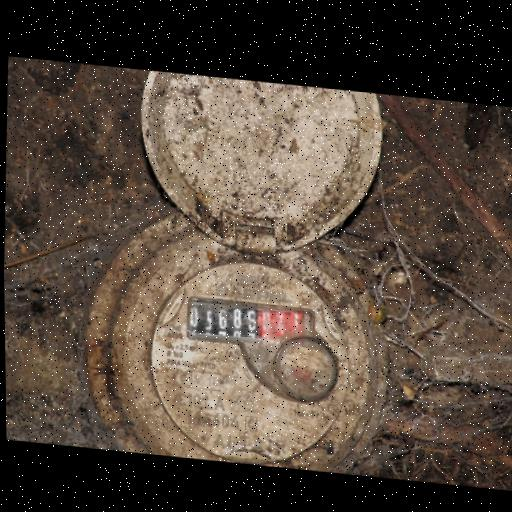0: (188, 299, 202, 333)
1: (287, 309, 305, 341)
4: (272, 307, 290, 341)
5: (201, 300, 217, 335)
6: (213, 302, 231, 336), (243, 303, 259, 338)
8: (258, 305, 276, 340), (230, 303, 246, 338)
border_water_meter_number: (186, 295, 317, 353)
